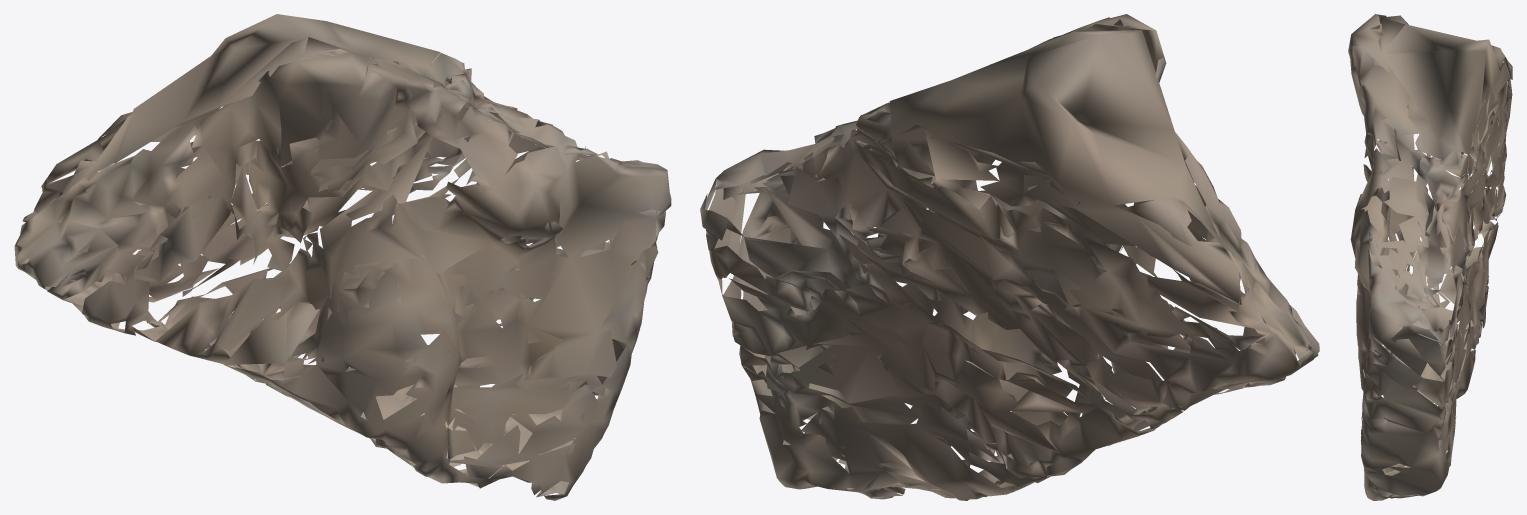
File: sf-cosa-campana-plaque.lod1.glb
3 views of the same model, side by side, from view 1: azimuth 30°, elevation 25°; view 2: azimuth 150°, elevation 25°; view 3: azimuth 270°, elevation 25° (orthographic). The views are drawn at different scales.
Visible parts, largest first — view 1: Geode; view 2: Geode; view 3: Geode.
Part boxes in pixels (left/top/right/bottom): Geode: left=14, top=14, right=671, bottom=500; Geode: left=700, top=14, right=1319, bottom=500; Geode: left=1348, top=14, right=1512, bottom=500.
Bounding box in the file's own units: 0.1216 × 0.098 × 0.0375.
